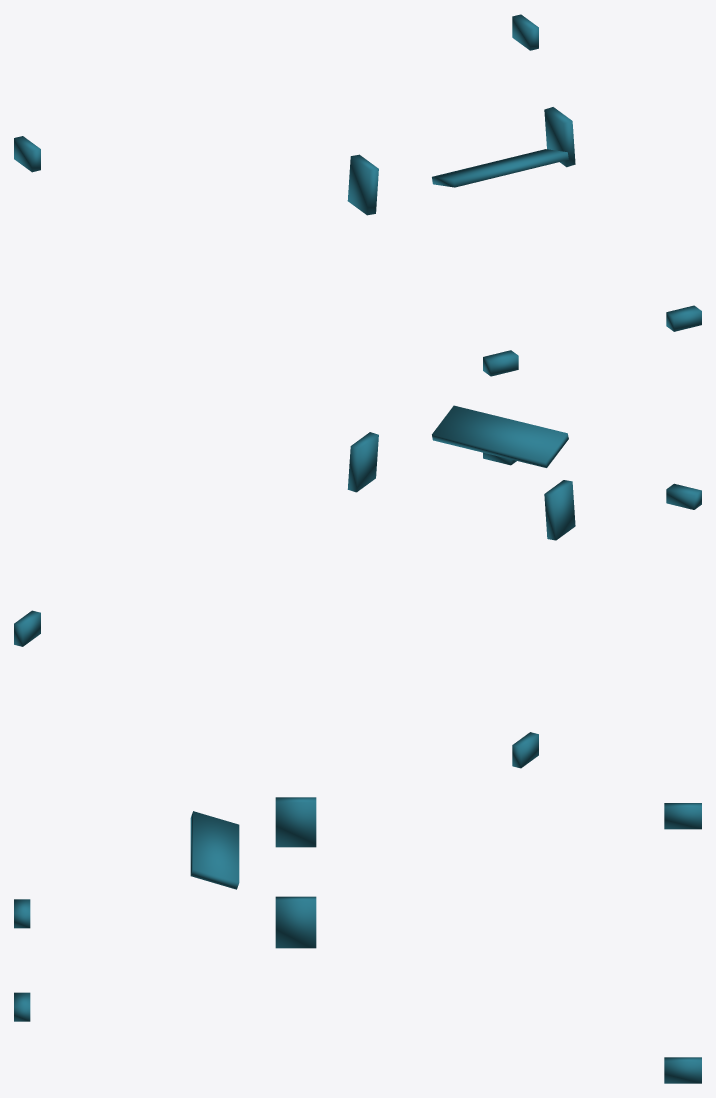
The model's file is harvester_glass.obj.
The picture shows the model from 3 angles, top to bottom: view 1: azimuth 30°, elevation 25°; view 2: azimuth 150°, elevation 25°; view 3: azimuth 270°, elevation 25°; orthographic projection. The views are drawn at different scales.
Visible parts, largest first — view 1: harvester_glass; view 2: harvester_glass; view 3: harvester_glass.
Boxes of the visible parts, <box> form: harvester_glass: <box>14,14,701,376</box>; harvester_glass: <box>14,405,701,768</box>; harvester_glass: <box>14,797,701,1083</box>.
Size of the model in its own units: 4.54 by 1.04 by 5.1.
